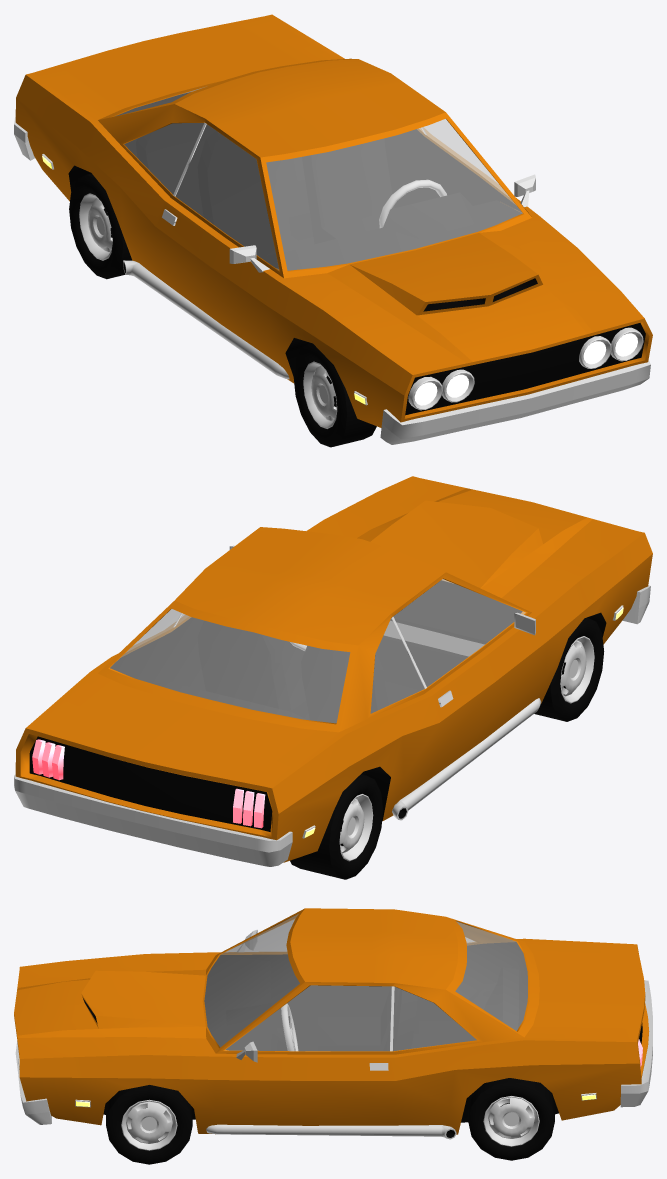
File: musclecar.gltf
The picture shows the model from 3 angles, top to bottom: view 1: azimuth 30°, elevation 25°; view 2: azimuth 150°, elevation 25°; view 3: azimuth 270°, elevation 25°; orthographic projection. The views are drawn at different scales.
Visible parts, largest first — view 1: Cube, Cube.001, Cube.005; view 2: Cube, Cube.005, Cube.001; view 3: Cube, Cube.002, Cube.004.
Part boxes in pixels (<box>): Cube: <box>14,14,652,444</box>; Cube.001: <box>293,343,376,447</box>; Cube.005: <box>69,173,132,279</box>; Cube: <box>14,476,652,866</box>; Cube.005: <box>290,774,383,879</box>; Cube.001: <box>534,617,604,721</box>; Cube: <box>14,908,652,1139</box>; Cube.002: <box>468,1078,554,1160</box>; Cube.004: <box>106,1085,192,1164</box>.
Bounding box in the file's own units: 5.46 × 3.6 × 12.16.
